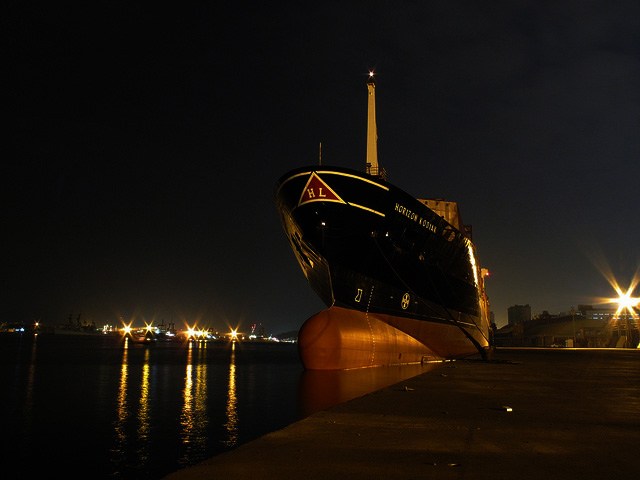container_ship: (280, 67, 487, 369)
